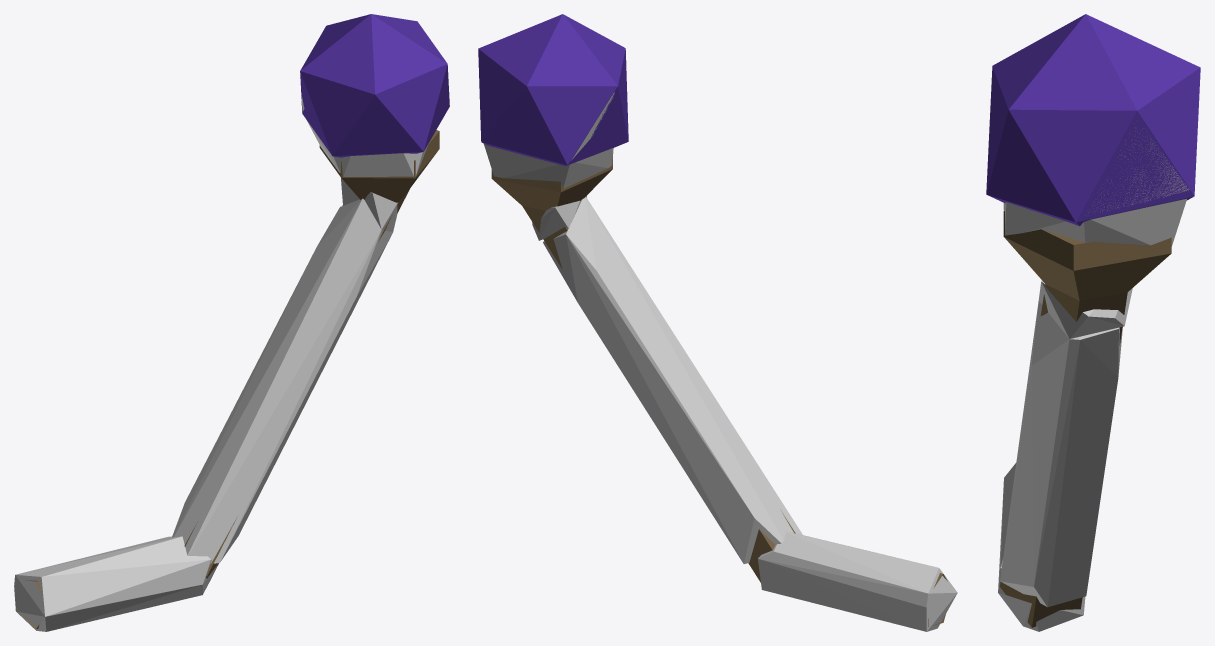
Rendered from SM_Bld_Planetarium_01_ring01_Planet_03.fbx.
3 renders of one model, left to right at view 1: azimuth 30°, elevation 25°; view 2: azimuth 150°, elevation 25°; view 3: azimuth 270°, elevation 25°, orthographic. The views are drawn at different scales.
Visible parts, largest first — view 1: SM_Bld_Planetarium_01_ring01_Planet_03_ConvexHulls, SM_Bld_Planetarium_01_ring01_Planet_03; view 2: SM_Bld_Planetarium_01_ring01_Planet_03_ConvexHulls, SM_Bld_Planetarium_01_ring01_Planet_03; view 3: SM_Bld_Planetarium_01_ring01_Planet_03, SM_Bld_Planetarium_01_ring01_Planet_03_ConvexHulls.
Part boxes in pixels (x1,y1,x2,y2): SM_Bld_Planetarium_01_ring01_Planet_03_ConvexHulls: (14,94,429,631); SM_Bld_Planetarium_01_ring01_Planet_03: (16,14,449,628); SM_Bld_Planetarium_01_ring01_Planet_03_ConvexHulls: (484,92,957,631); SM_Bld_Planetarium_01_ring01_Planet_03: (478,14,947,626); SM_Bld_Planetarium_01_ring01_Planet_03: (986,14,1200,627); SM_Bld_Planetarium_01_ring01_Planet_03_ConvexHulls: (998,140,1189,631).
Bounding box in the file's own units: 22.39 × 6.72 × 25.9.
2 materials, 1 textured.
